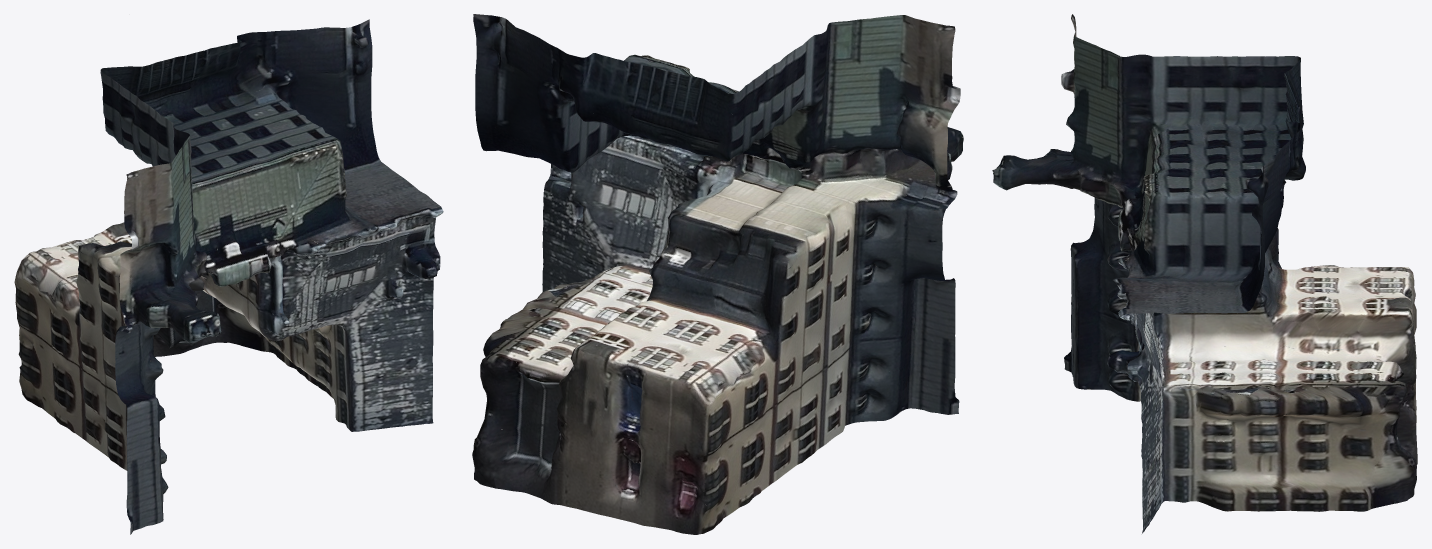
Rendered from Tile_+029_+018_L21_0003200.fbx.
3 views of the same model, side by side, from view 1: azimuth 30°, elevation 25°; view 2: azimuth 150°, elevation 25°; view 3: azimuth 270°, elevation 25° (orthographic). The views are drawn at different scales.
Visible parts, largest first — view 1: DefaultName; view 2: DefaultName; view 3: DefaultName.
Boxes of the visible parts, x1,y1,x2,y2 form: DefaultName: (14, 19, 443, 534); DefaultName: (472, 14, 963, 534); DefaultName: (992, 14, 1417, 533).
Size of the model in its own units: 31.38 by 31.38 by 34.06.
Materials: 1 (1 with a texture image).
